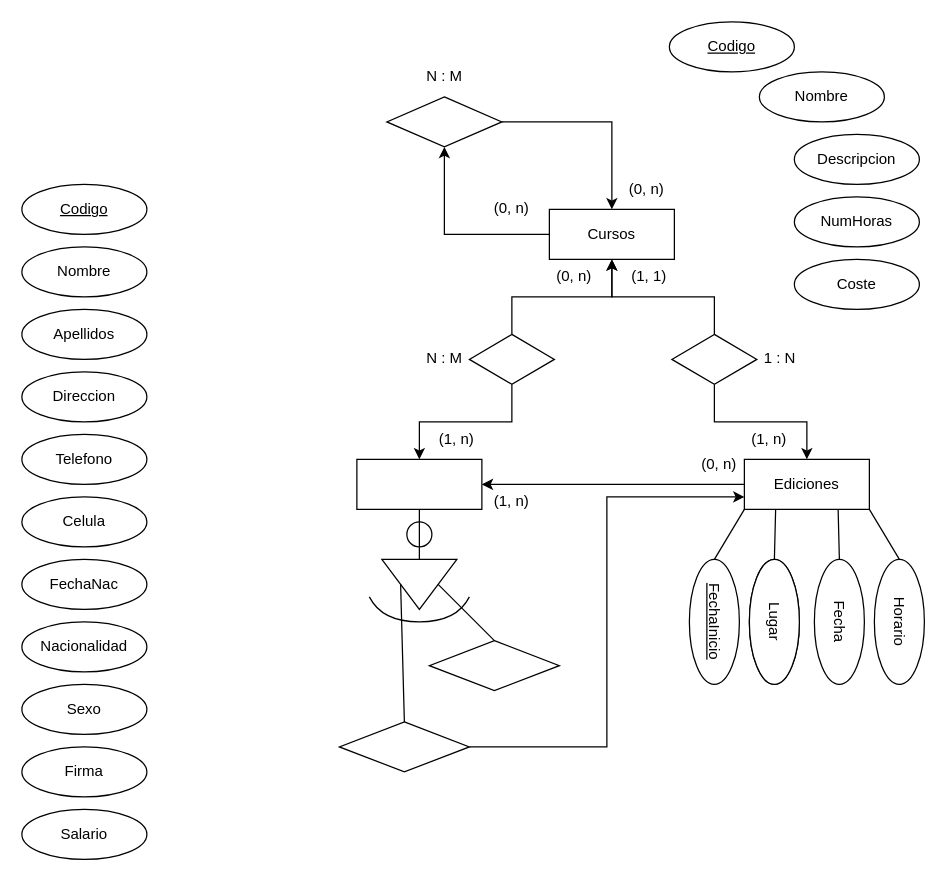
This 946x881 diagram has some shape labels left out. Here are the shapes that lost their labels. From the top down, the centre of each, then its label:
At (x=444, y=121): "Requisito".
At (x=511, y=358): "Impartidos".
At (x=714, y=358): "Tiene".
At (x=419, y=483): "Empleados".
At (x=493, y=665): "No capacitado".
At (x=403, y=746): "Capacitado".
